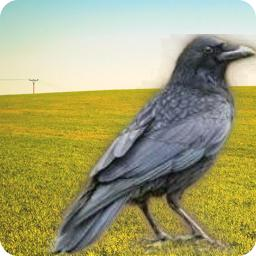Crow: (46, 34, 256, 255)
